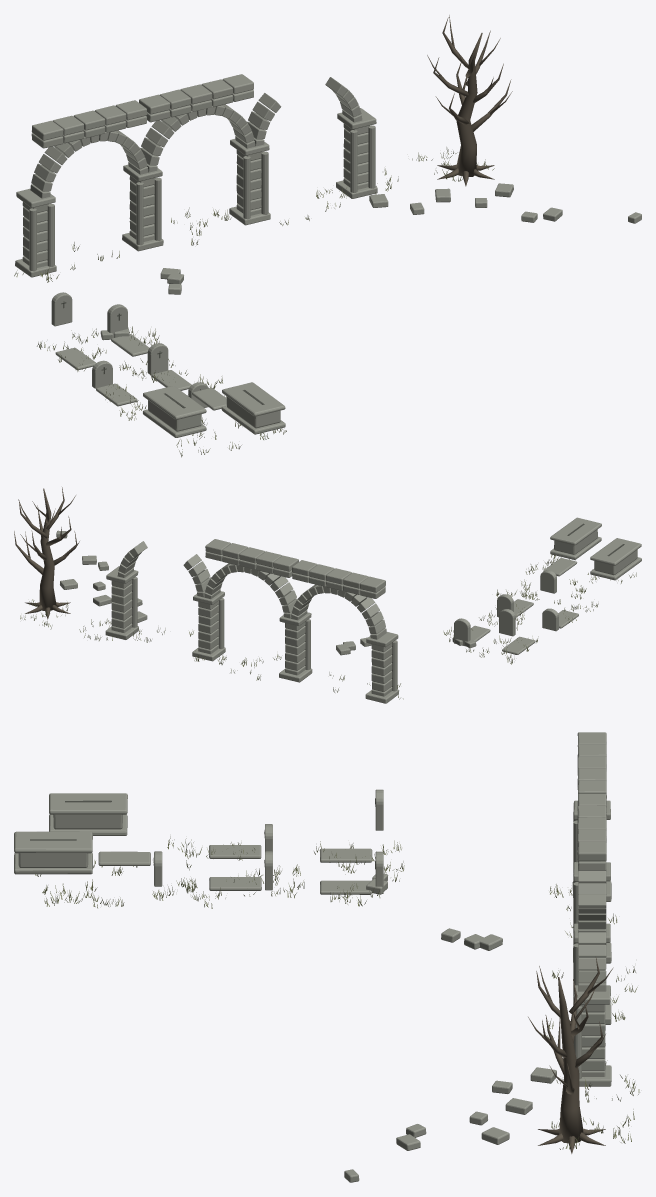
File: courtyard_details.glb
3 renders of one model, top to bottom at view 1: azimuth 30°, elevation 25°; view 2: azimuth 150°, elevation 25°; view 3: azimuth 270°, elevation 25°, orthographic. The views are drawn at different scales.
Visible parts, largest first — view 1: Weathered_limestone, Dead_wood, Dry_sedge; view 2: Weathered_limestone, Dead_wood, Dry_sedge; view 3: Weathered_limestone, Dead_wood, Dry_sedge.
Boxes of the visible parts, x1,y1,x2,y2 form: Weathered_limestone: [15, 74, 641, 437]; Dead_wood: [427, 15, 512, 186]; Dry_sedge: [14, 147, 494, 457]; Weathered_limestone: [56, 517, 641, 703]; Dead_wood: [14, 487, 79, 619]; Dry_sedge: [20, 554, 636, 699]; Weathered_limestone: [14, 732, 611, 1182]; Dead_wood: [528, 957, 613, 1153]; Dry_sedge: [35, 836, 639, 1149].
Size of the model in its own units: 27.78 by 6.76 by 21.56.
